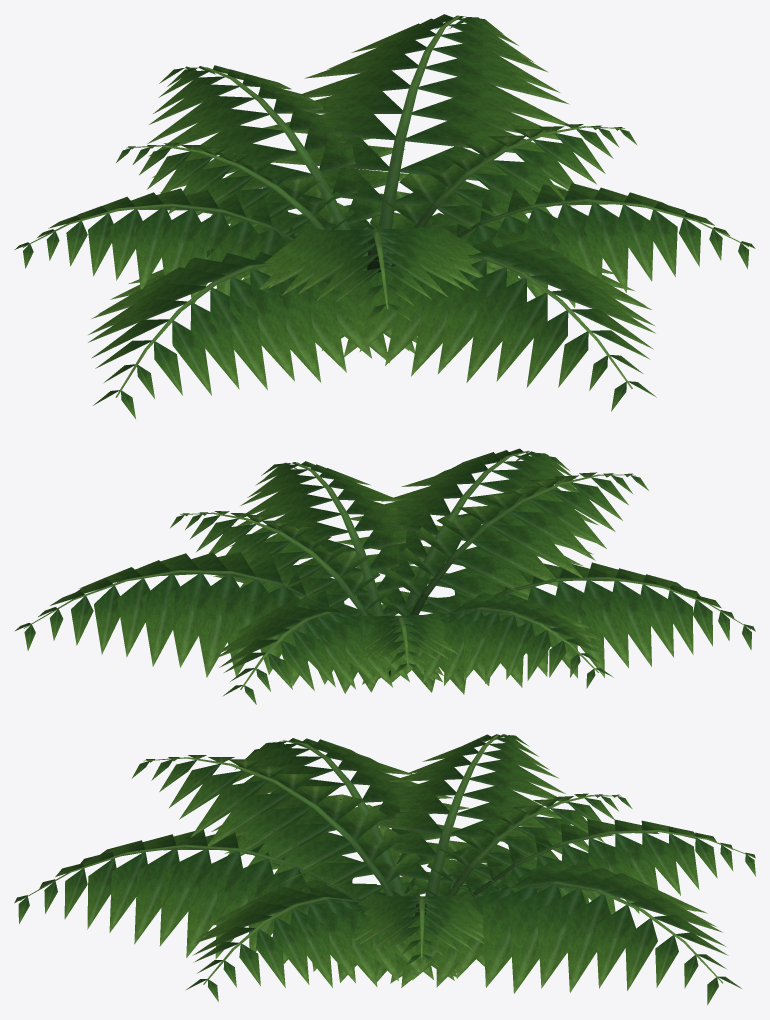
File: Fern_Bracken.glb
3 renders of one model, top to bottom at view 1: azimuth 30°, elevation 25°; view 2: azimuth 150°, elevation 25°; view 3: azimuth 270°, elevation 25°, orthographic. The views are drawn at different scales.
Parts seen in each view (by area): view 1: Fern_Bracken__Fronds; view 2: Fern_Bracken__Fronds; view 3: Fern_Bracken__Fronds.
Part boxes in pixels (bbox=[...]): Fern_Bracken__Fronds: bbox=[14, 14, 755, 418]; Fern_Bracken__Fronds: bbox=[15, 448, 755, 704]; Fern_Bracken__Fronds: bbox=[14, 734, 755, 1005].
Bounding box in the file's own units: 11.72 × 3.11 × 12.97.
1 material, 1 textured.
